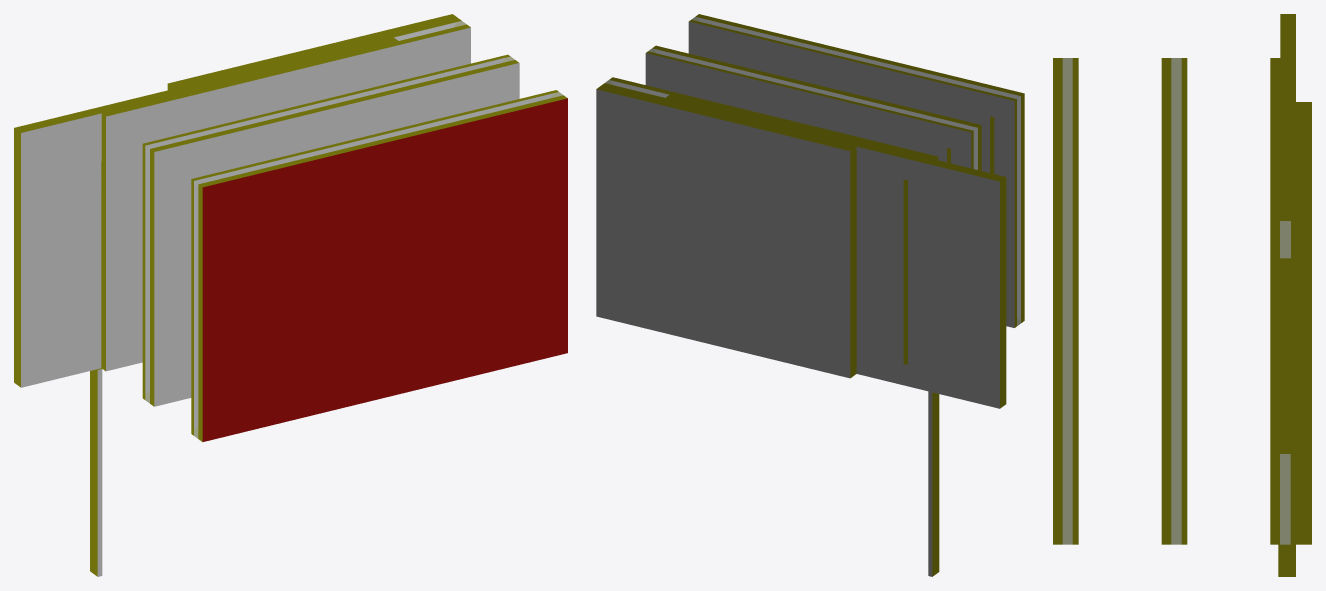
File: idf.obj
3 views of the same model, side by side, from view 1: azimuth 30°, elevation 25°; view 2: azimuth 150°, elevation 25°; view 3: azimuth 270°, elevation 25° (orthographic). The views are drawn at different scales.
Bounding box in the file's own units: 89.19 × 88.33 × 39.94.
